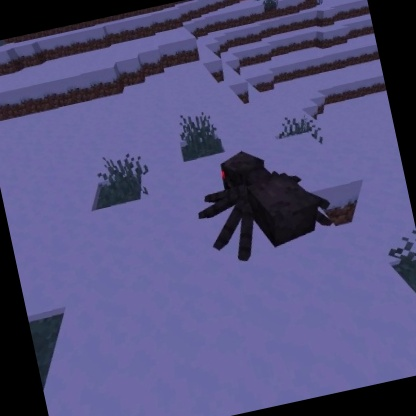spider: (182, 132, 342, 272)
